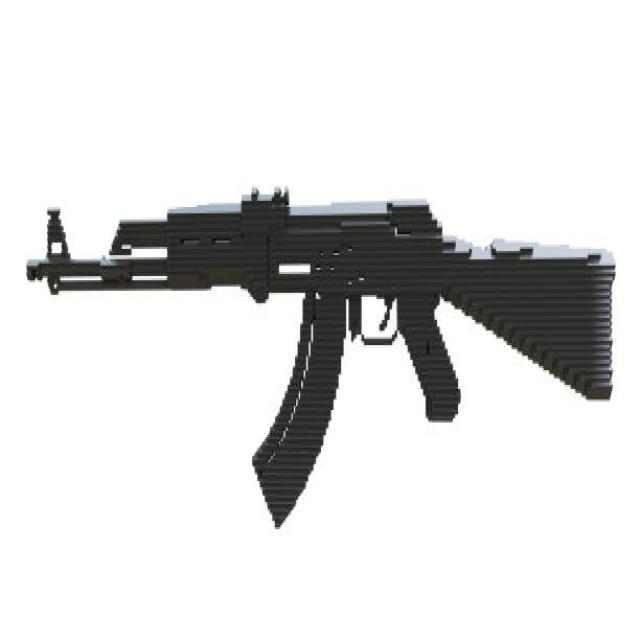rifle: (14, 182, 626, 523)
